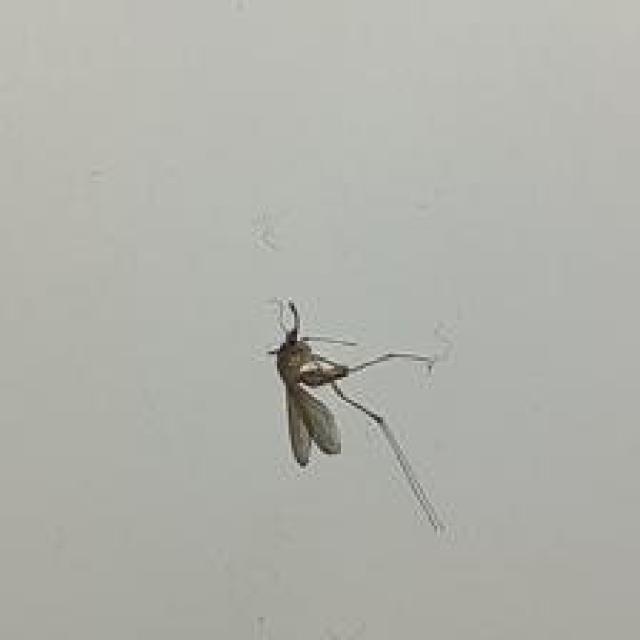Culex: (264, 297, 447, 534)
